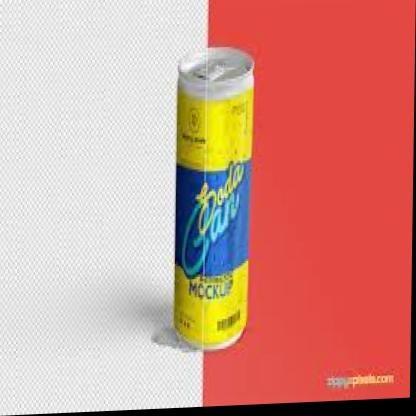trash: (174, 48, 253, 349)
